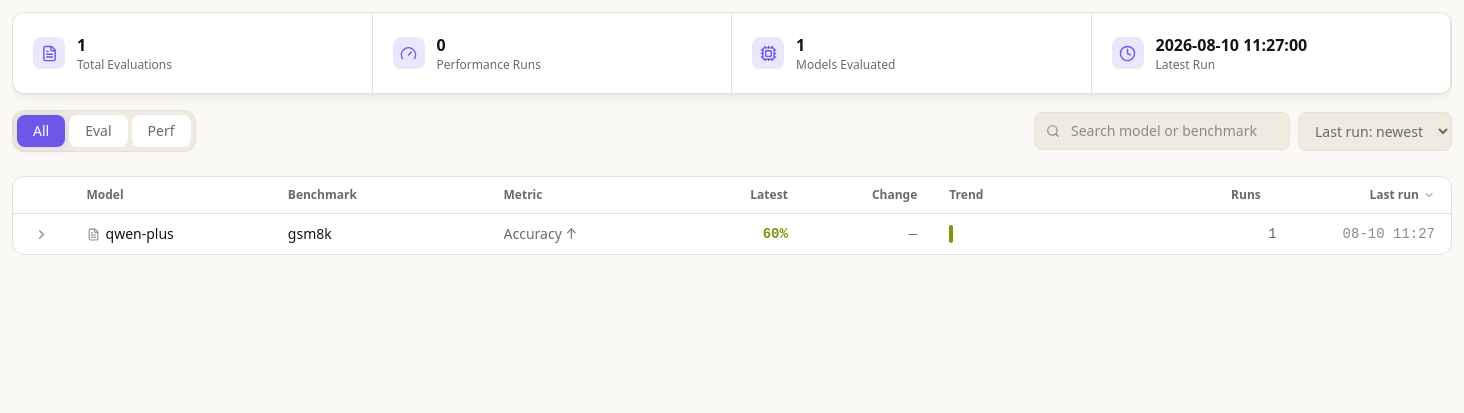
Test case: dashboard kind tabs › says a kind is empty instead of rendering a table with no rows
Click the tab "Perf". click: x=161, y=131
box: [132,115,190,147]
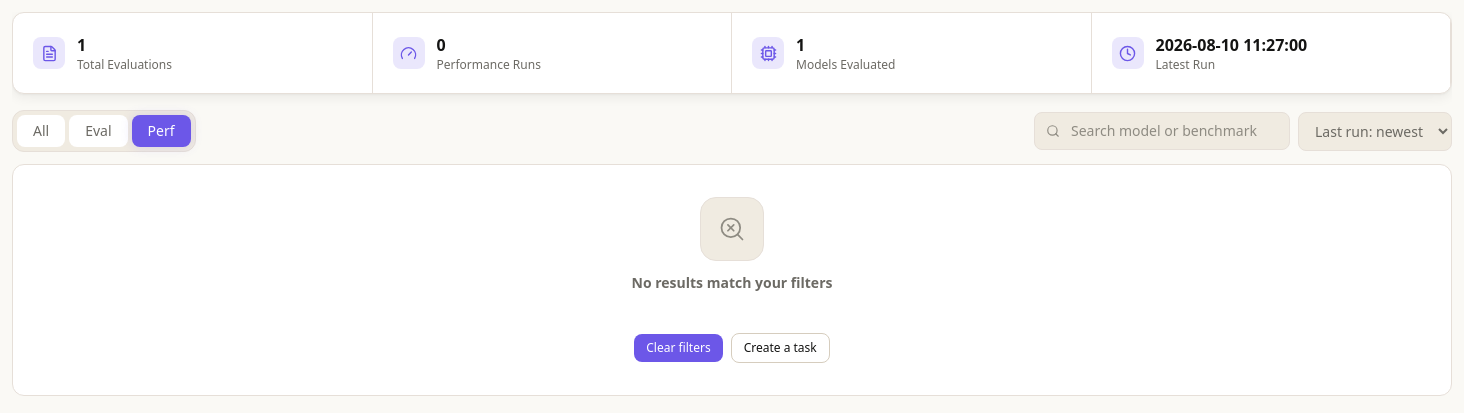
Now the text "gsm8k" is gone
